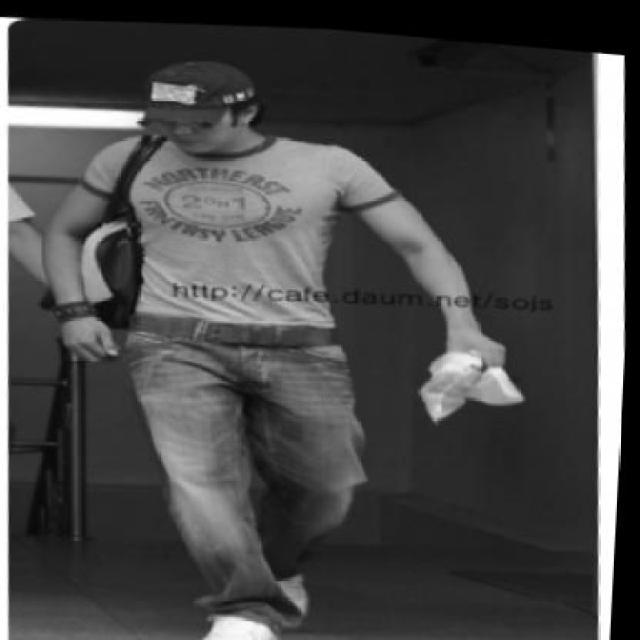hat: (137, 46, 266, 132)
